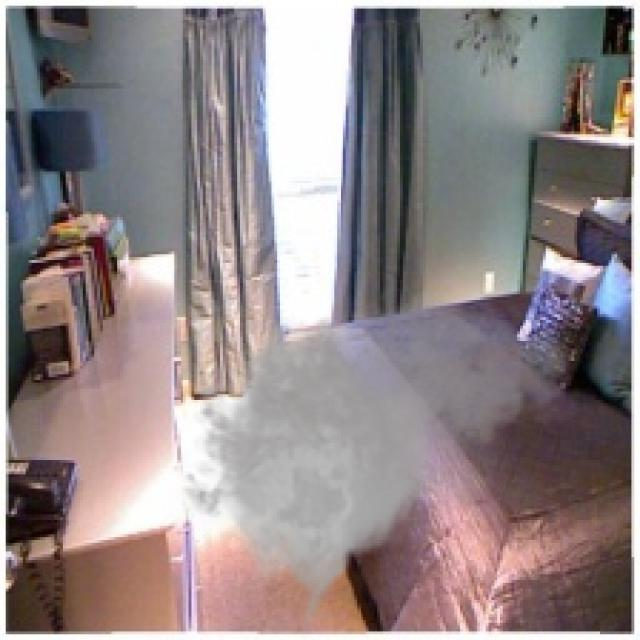smoke: (169, 280, 580, 637)
